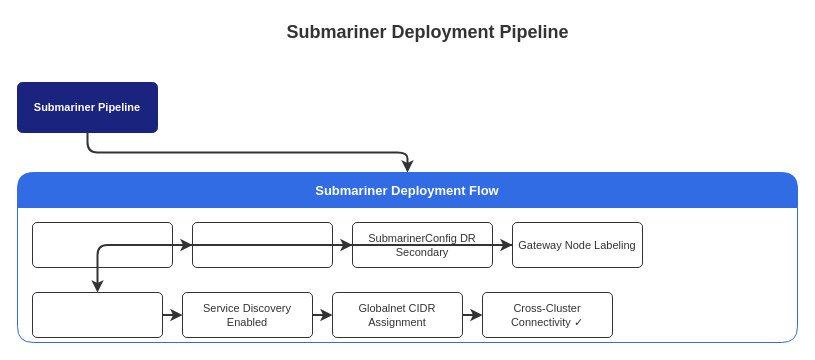
Image size: 815x360. Some labels were removed from this diagram. The shapes that lost their labels are listed below. From the top down, each one's centre as x and y in pixels, then its label:
the point at 102,245: Broker Install (Mgmt DC Hub)
the point at 262,245: SubmarinerConfig DC Primary
the point at 97,315: IPsec Tunnel Established
